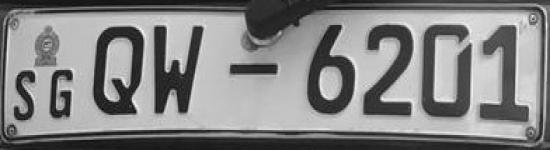-: (226, 59, 282, 85)
1: (478, 19, 535, 128)
2: (419, 18, 477, 124), (360, 19, 417, 126)
6: (298, 20, 359, 125)
G: (46, 66, 83, 127)
Q: (89, 20, 147, 122)
S: (12, 65, 41, 125)
W: (149, 22, 217, 122)
